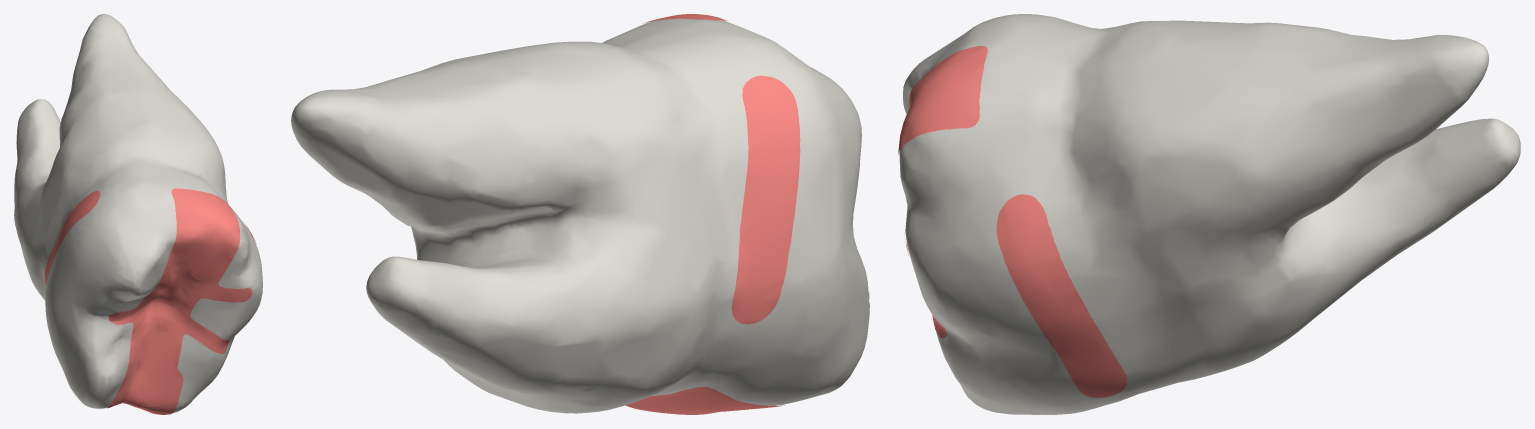
The model's file is tooth_36_FMA55704.glb.
The picture shows the model from 3 angles, left to right: view 1: azimuth 30°, elevation 25°; view 2: azimuth 150°, elevation 25°; view 3: azimuth 270°, elevation 25°; orthographic projection. The views are drawn at different scales.
Visible parts, largest first — view 1: tooth_36, class2_distal, class2_mesial, class1, class5_lingual, class2_mesial_distal; view 2: tooth_36, class5_lingual, class2_mesial; view 3: tooth_36, class5_facial, class2_distal.
Boxes of the visible parts, box(x1,y1,x2,y2) form: tooth_36: box(14, 14, 262, 412); class2_distal: box(125, 188, 240, 344); class2_mesial: box(107, 280, 198, 414); class1: box(108, 261, 252, 372); class5_lingual: box(44, 190, 100, 286); class2_mesial_distal: box(128, 285, 198, 364); tooth_36: box(291, 18, 869, 413); class5_lingual: box(731, 75, 800, 324); class2_mesial: box(625, 387, 784, 414); tooth_36: box(899, 14, 1520, 414); class5_facial: box(996, 194, 1127, 397); class2_distal: box(898, 46, 987, 154).
Size of the model in its own units: 11.69 by 14.31 by 18.7.
